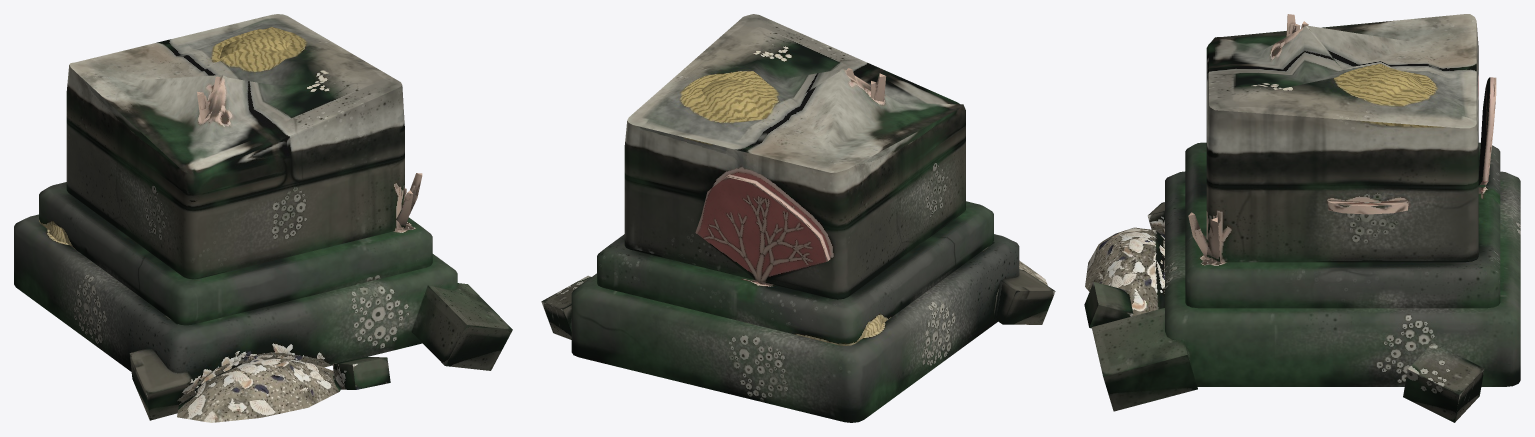
The model's file is drowned_pillar_low.glb.
The picture shows the model from 3 angles, left to right: view 1: azimuth 30°, elevation 25°; view 2: azimuth 150°, elevation 25°; view 3: azimuth 270°, elevation 25°; orthographic projection. The views are drawn at different scales.
Visible parts, largest first — view 1: drowned_pillar_low; view 2: drowned_pillar_low; view 3: drowned_pillar_low.
Boxes of the visible parts, x1=… form: drowned_pillar_low: x1=14, y1=14, x2=512, y2=422; drowned_pillar_low: x1=541, y1=14, x2=1055, y2=422; drowned_pillar_low: x1=1084, y1=14, x2=1520, y2=422.
Size of the model in its own units: 1.8 by 1.27 by 1.72.
1 material, 1 textured.
